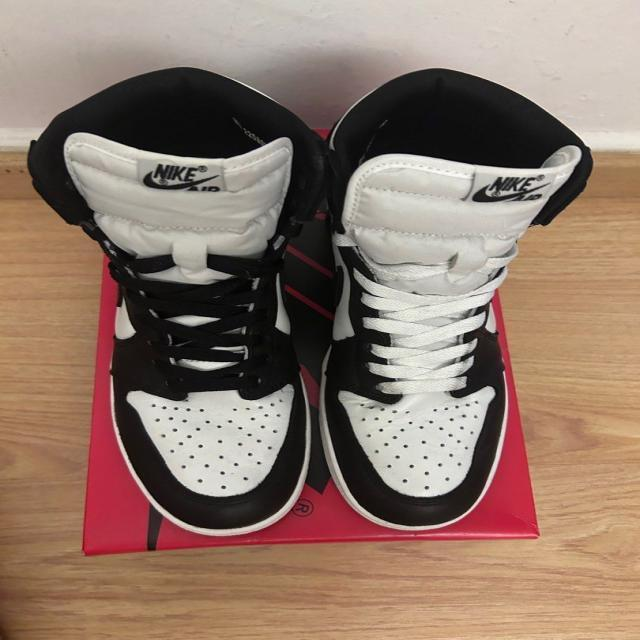nike original jordan 1: (26, 69, 317, 538), (314, 66, 594, 532)
